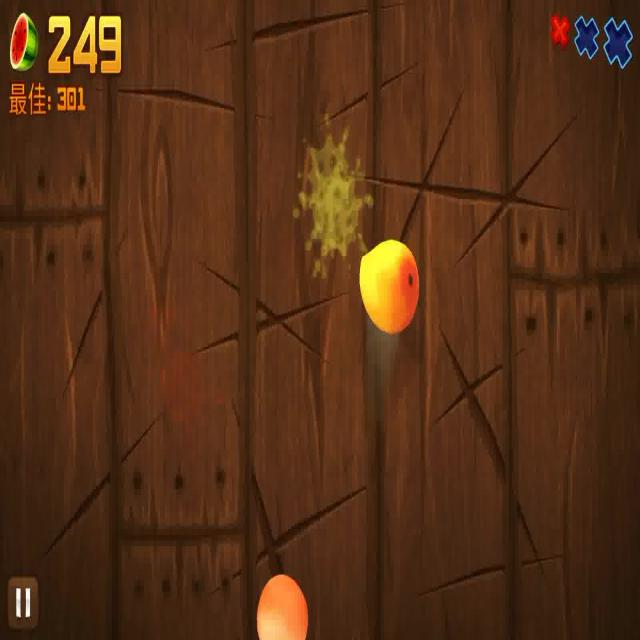fruit: (358, 235, 419, 334), (253, 574, 310, 638)
